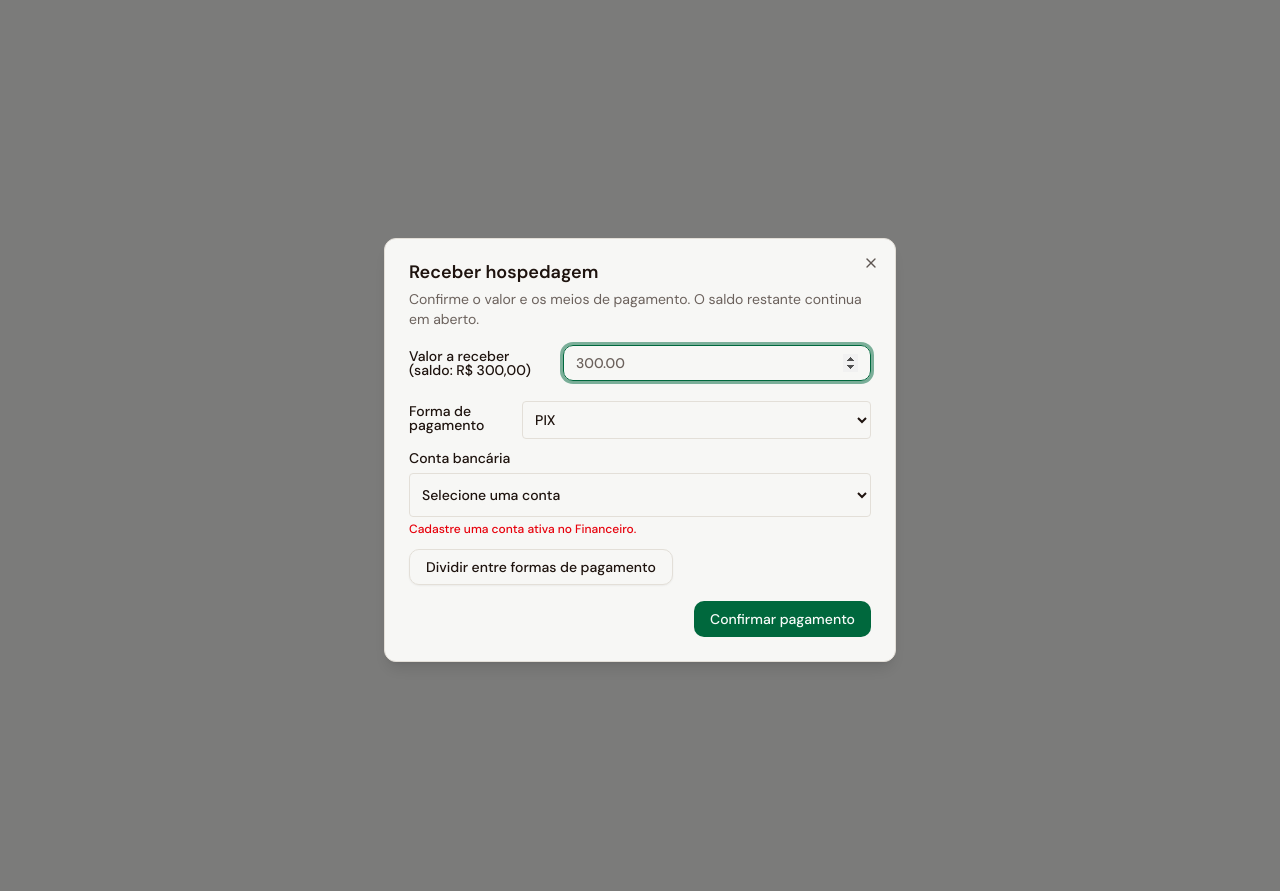
Scenario: Atendimento abre diretamente na tarefa › recebimento abre sem outro clique e pagamento parcial volta à mesma conta
Type "50" into the number field labelled "Valor a receber".
click(717, 363); type("50")  # box [563,345,871,381]
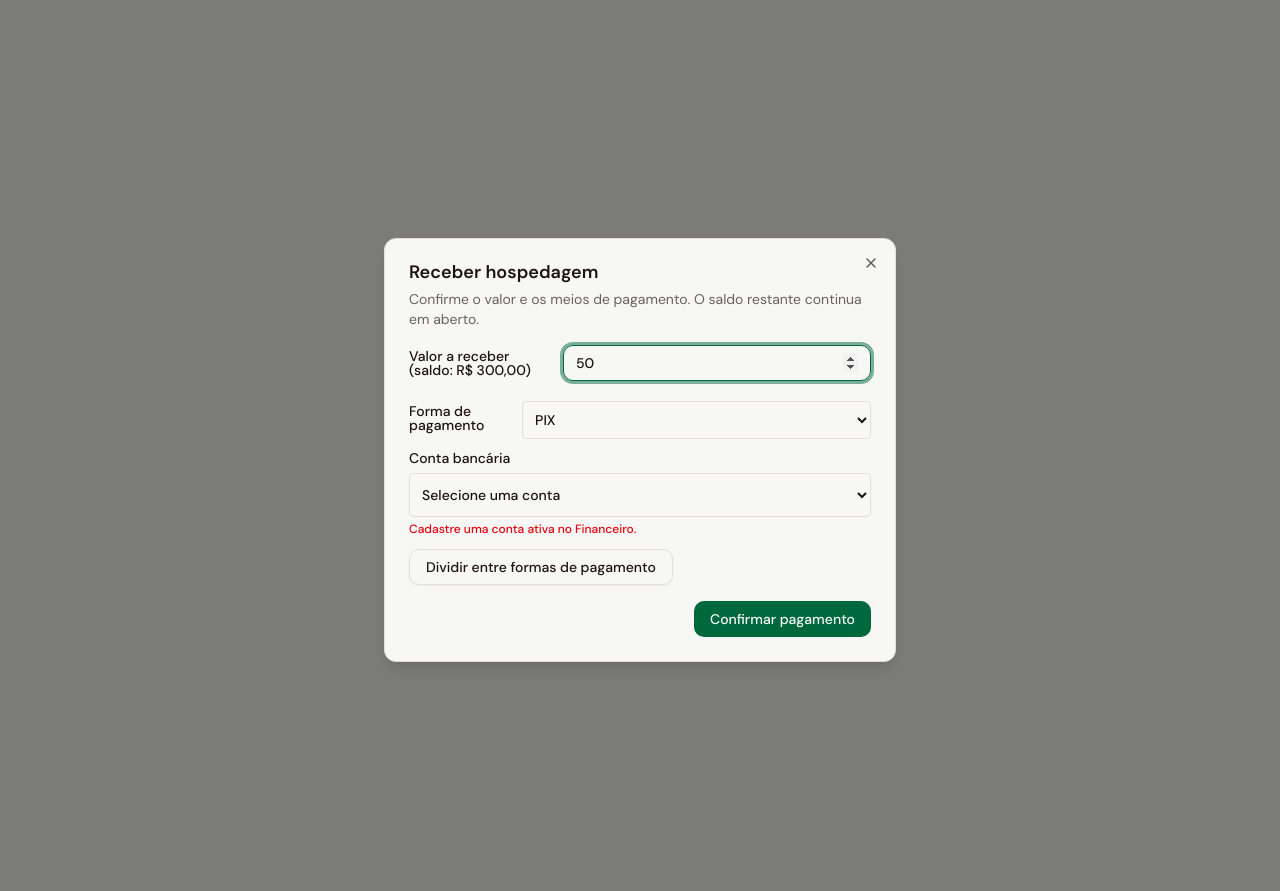
Click the button "Confirmar pagamento".
click(782, 619)  # box [694,601,871,637]
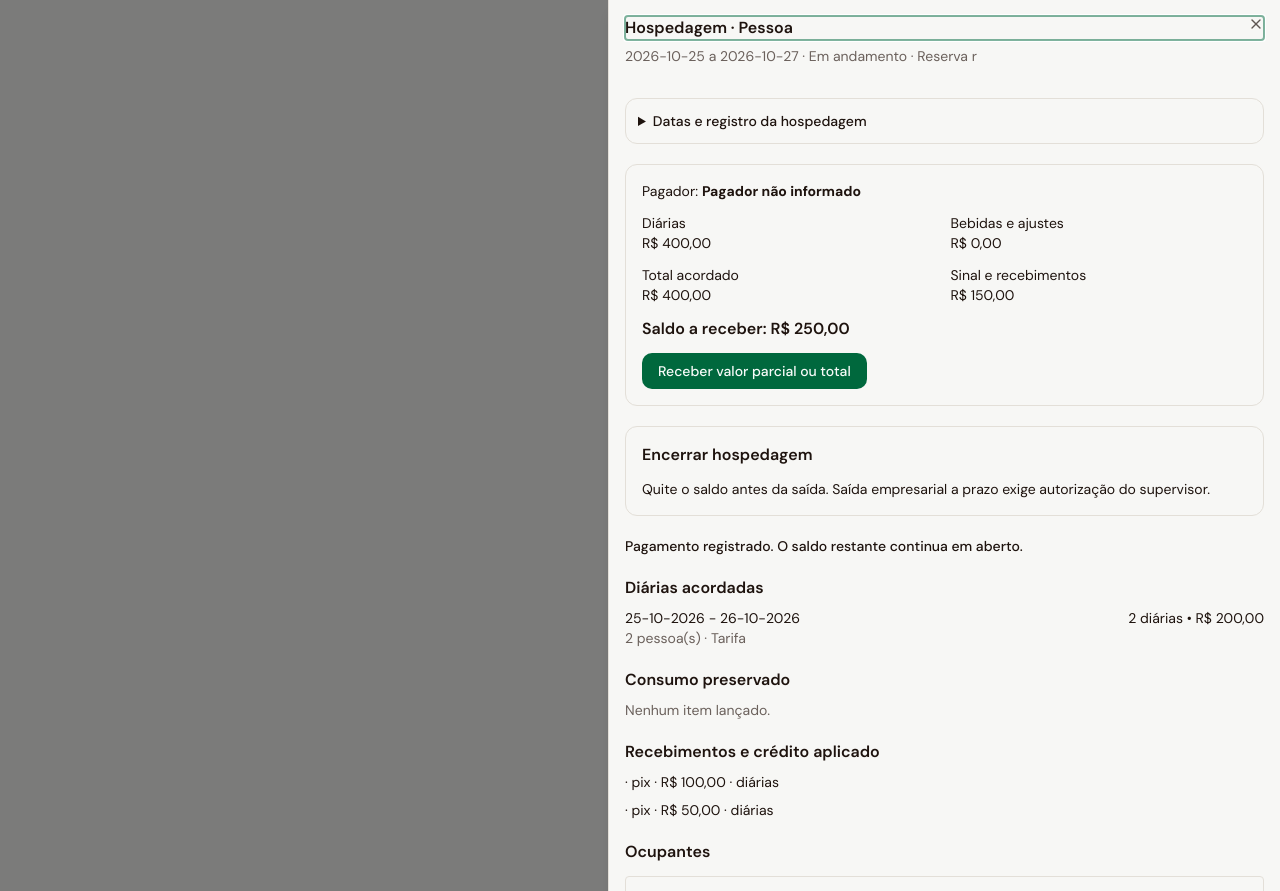
Now the text "Pagamento registrado. O saldo restante continua em aberto." is shown, box [625,537,1023,555]
Now the text "Saldo a receber: R$ 250,00" is shown, box [642,318,850,339]
